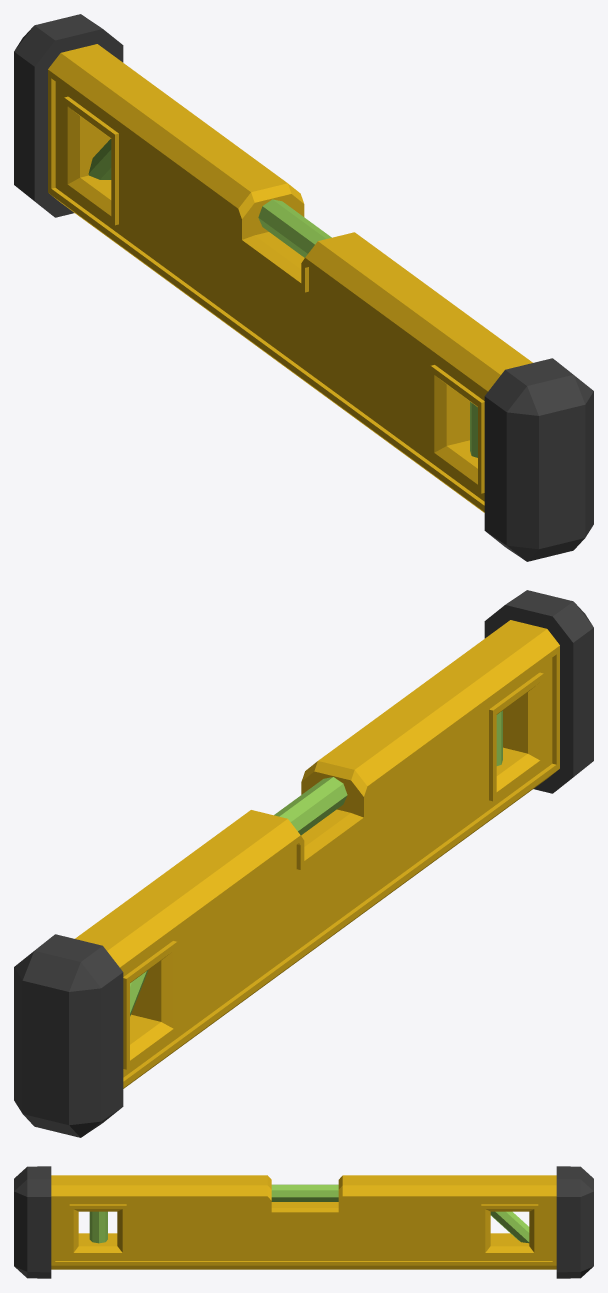
Rendered from Level.fbx.
The picture shows the model from 3 angles, top to bottom: view 1: azimuth 30°, elevation 25°; view 2: azimuth 150°, elevation 25°; view 3: azimuth 270°, elevation 25°; orthographic projection. The views are drawn at different scales.
Visible parts, largest first — view 1: Level; view 2: Level; view 3: Level.
Part boxes in pixels (<box>): Level: <box>14,14,593,561</box>; Level: <box>14,590,593,1137</box>; Level: <box>14,1166,593,1278</box>.
Size of the model in its own units: 13.75 by 26.3 by 139.
